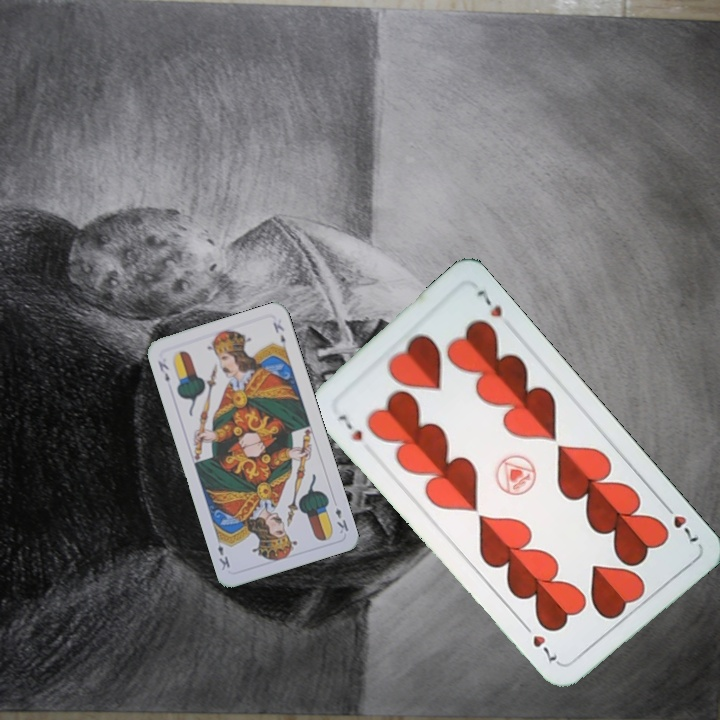EK: (331, 504, 351, 536), (154, 357, 172, 385)
H7: (659, 498, 702, 547), (334, 410, 365, 444)
